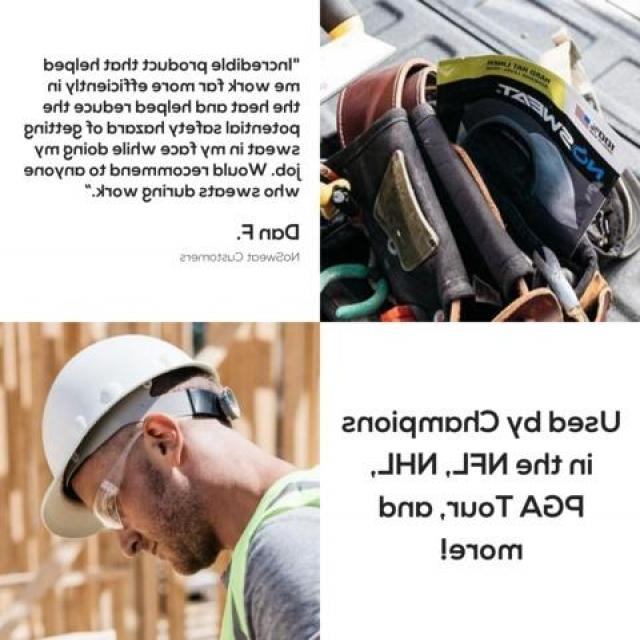Reflective-Jacket: (216, 460, 320, 640)
Safety-Helmet: (35, 330, 224, 537)
